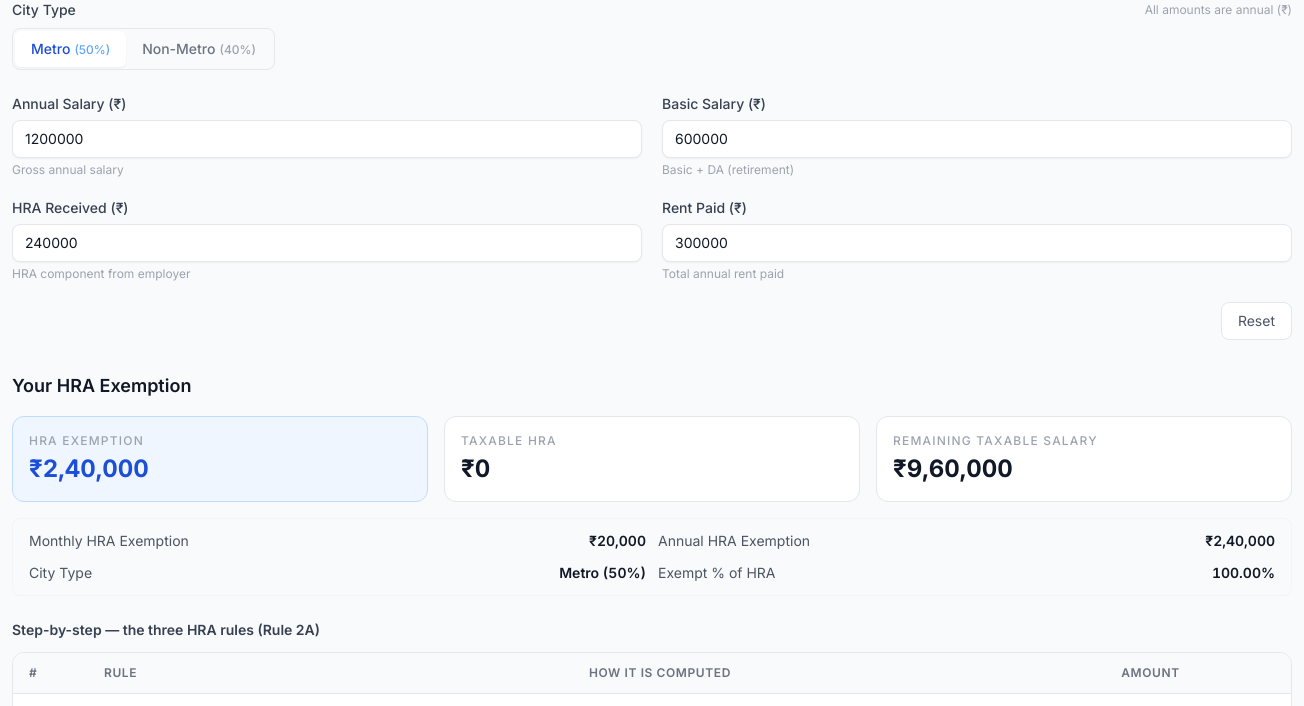
it: HRACalculator › switching to Non-Metro changes the 50% rule to 40%
Step 1. Click the button named "Non-Metro (40%)" → (199, 49), box x1=126 y1=31 x2=272 y2=67
(page scrolled)
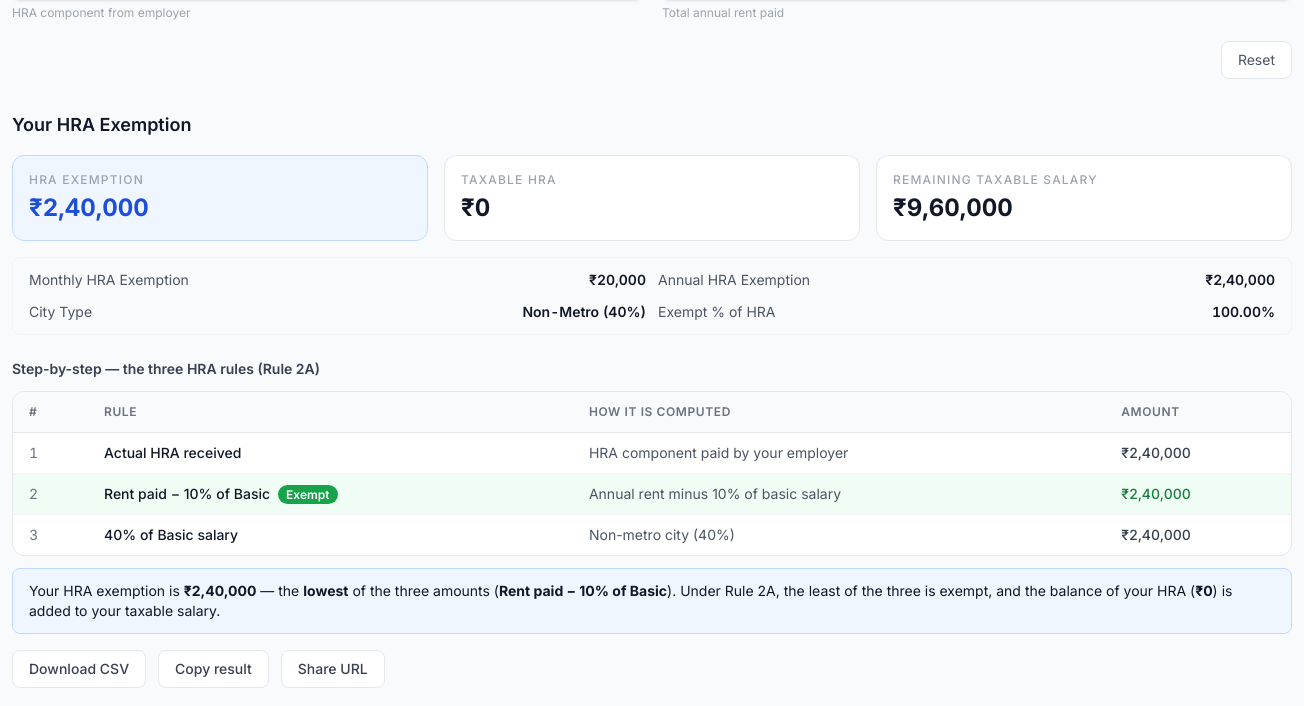
Check: the text "40% of Basic salary" is shown, box x1=88 y1=514 x2=573 y2=555
